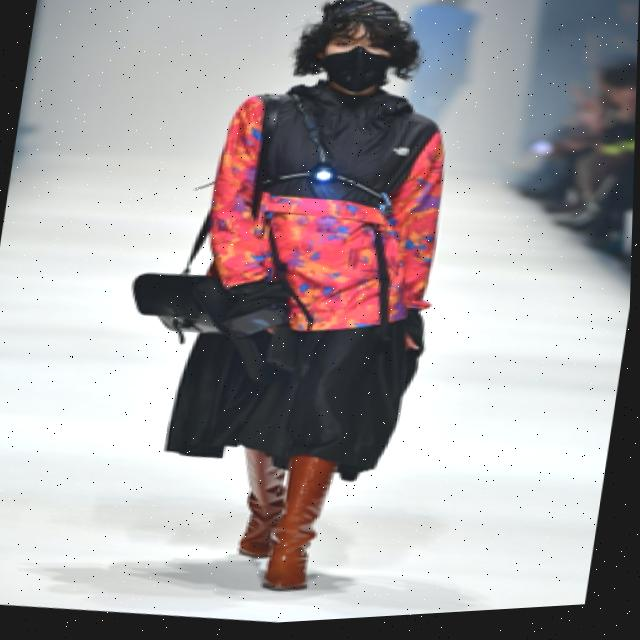Mask: (304, 44, 396, 106)
